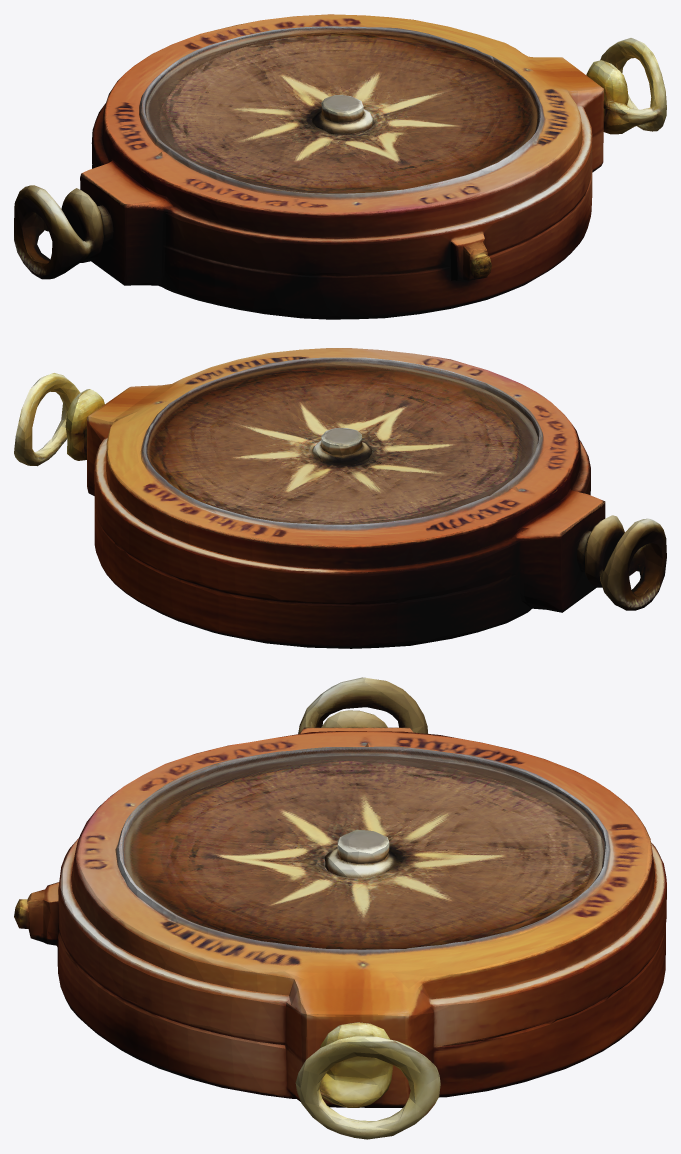
Rendered from wooden-compass-3d.jpeg.glb.
The picture shows the model from 3 angles, top to bottom: view 1: azimuth 30°, elevation 25°; view 2: azimuth 150°, elevation 25°; view 3: azimuth 270°, elevation 25°; orthographic projection. The views are drawn at different scales.
Visible parts, largest first — view 1: world; view 2: world; view 3: world.
Part boxes in pixels (x1,y1,x2,y2): world: [14, 14, 666, 319]; world: [14, 348, 666, 648]; world: [14, 677, 666, 1139].
Size of the model in its own units: 0.9955 by 0.1768 by 0.7512.
Materials: 1 (1 with a texture image).
